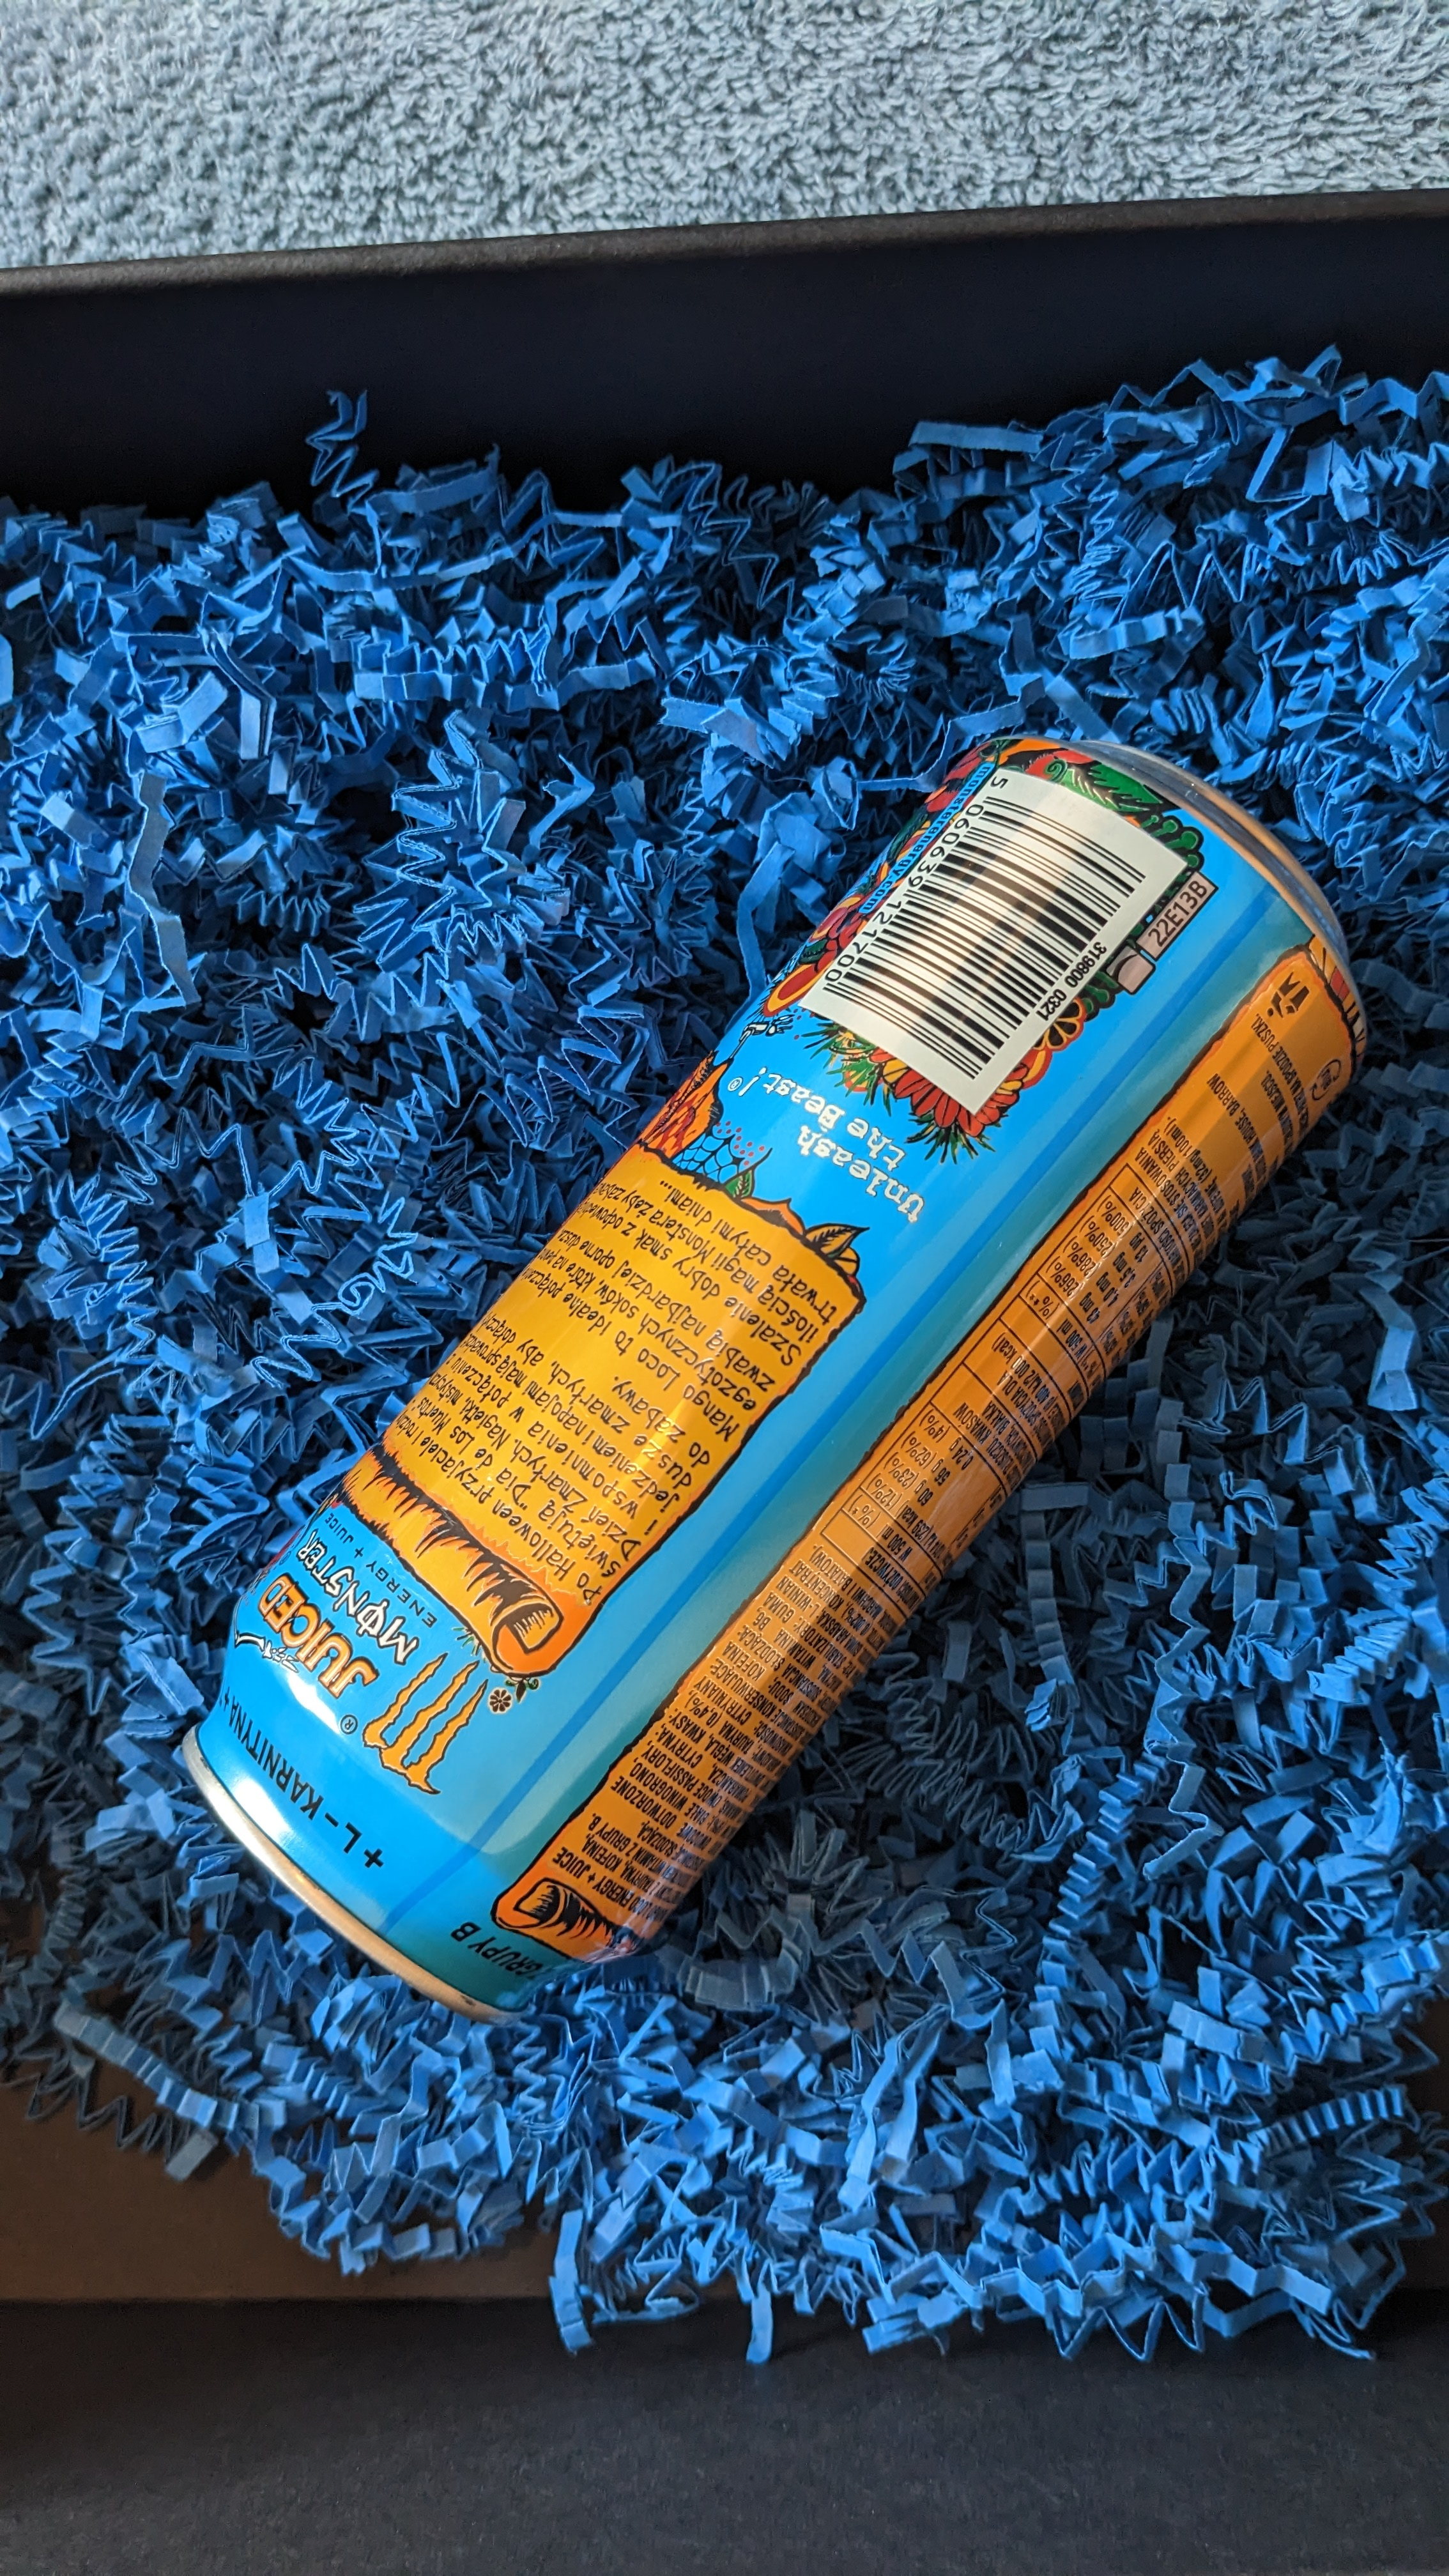monster: (152, 718, 1440, 2029)
